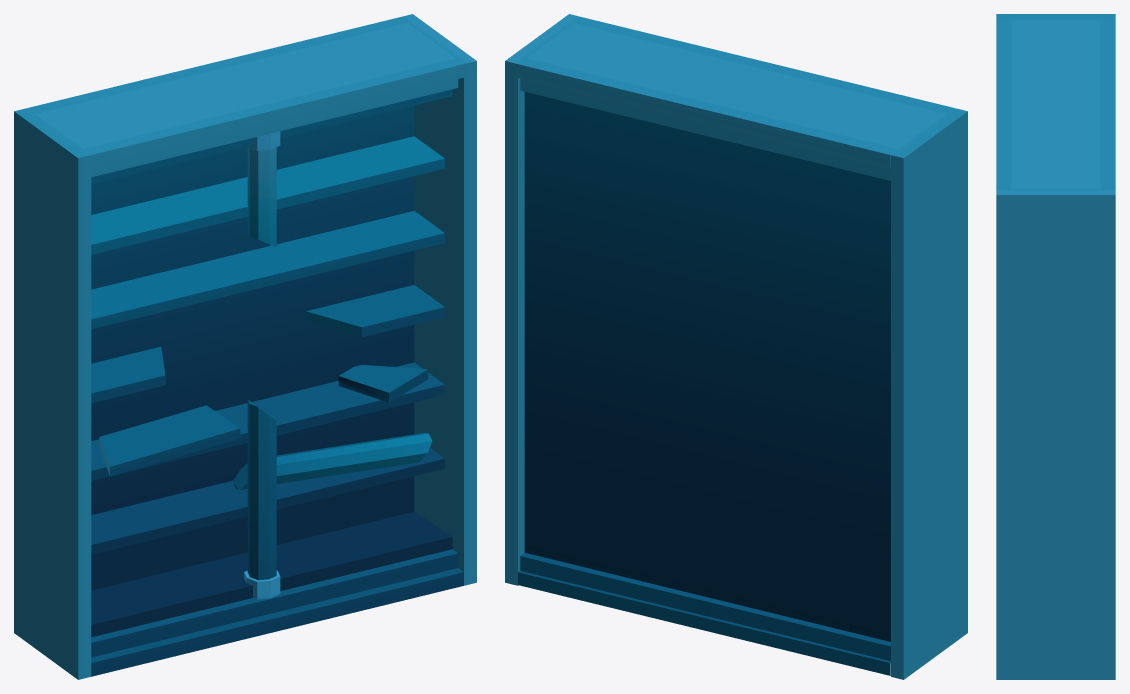
The model's file is 1 Bookshelf 02 Center 02.002.fbx.
3 renders of one model, left to right at view 1: azimuth 30°, elevation 25°; view 2: azimuth 150°, elevation 25°; view 3: azimuth 270°, elevation 25°, orthographic. The views are drawn at different scales.
Parts seen in each view (by area): view 1: Bookshelf 02 Center 02.002; view 2: Bookshelf 02 Center 02.002; view 3: Bookshelf 02 Center 02.002.
Part boxes in pixels (bbox=[...]): Bookshelf 02 Center 02.002: bbox=[14, 14, 476, 679]; Bookshelf 02 Center 02.002: bbox=[505, 14, 967, 679]; Bookshelf 02 Center 02.002: bbox=[996, 14, 1115, 679].
Size of the model in its own units: 214 by 267 by 59.62.
